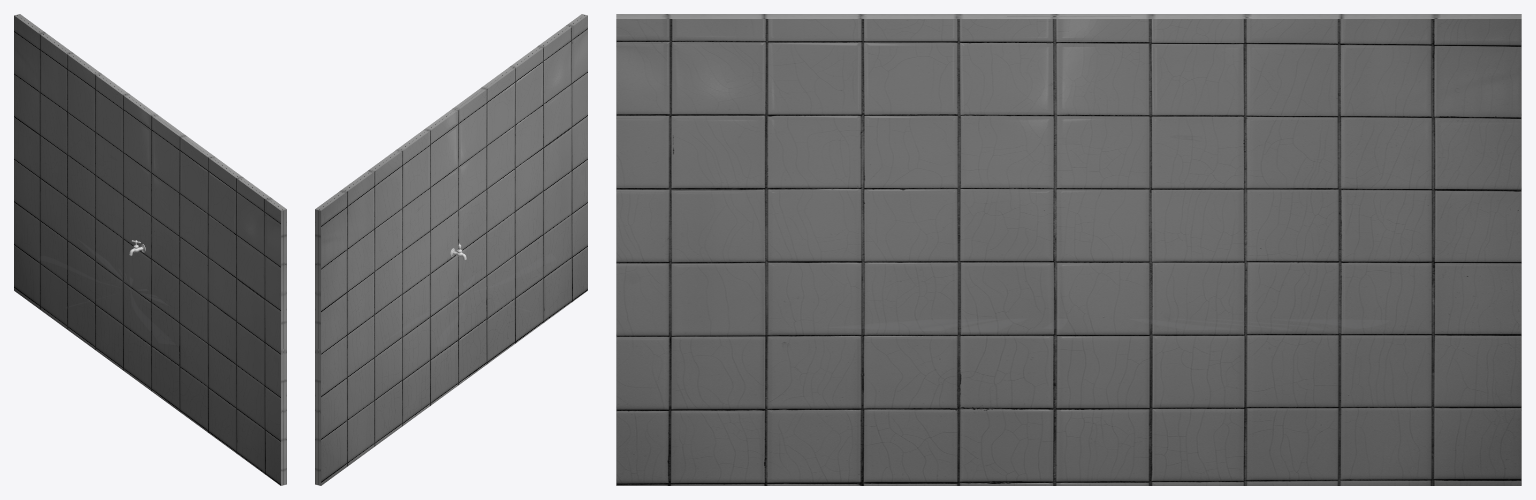
3 renders of one model, left to right at view 1: azimuth 30°, elevation 25°; view 2: azimuth 150°, elevation 25°; view 3: azimuth 270°, elevation 25°, orthographic. The views are drawn at different scales.
Visible parts, largest first — view 1: Wallpaper_Material-material; view 2: Wallpaper_Material-material; view 3: Wallpaper_Material-material.
Part boxes in pixels (x1=…): Wallpaper_Material-material: x1=14, y1=14, x2=286, y2=485; Wallpaper_Material-material: x1=315, y1=14, x2=587, y2=485; Wallpaper_Material-material: x1=616, y1=14, x2=1521, y2=485.
Bounding box in the file's own units: 4.26 × 10.91 × 19.17.
3 materials, 2 textured.
